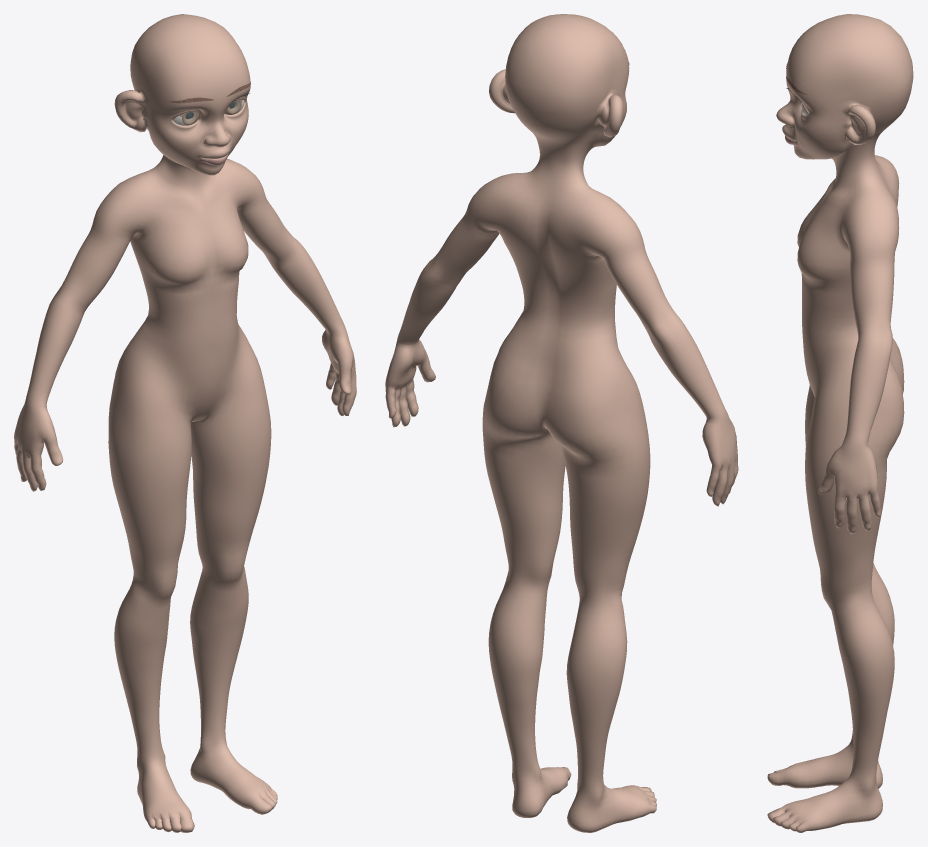
Rendered from feminine-LOOKDEV-ONLY-not-validated.glb.
3 renders of one model, left to right at view 1: azimuth 30°, elevation 25°; view 2: azimuth 150°, elevation 25°; view 3: azimuth 270°, elevation 25°, orthographic. The views are drawn at different scales.
Visible parts, largest first — view 1: GEO-body_female_stylized; view 2: GEO-body_female_stylized; view 3: GEO-body_female_stylized.
Boxes of the visible parts, x1,y1,x2,y2 form: GEO-body_female_stylized: (14, 14, 356, 832); GEO-body_female_stylized: (385, 14, 738, 832); GEO-body_female_stylized: (767, 14, 913, 832).
Size of the model in its own units: 0.7508 by 1.68 by 0.2845.
